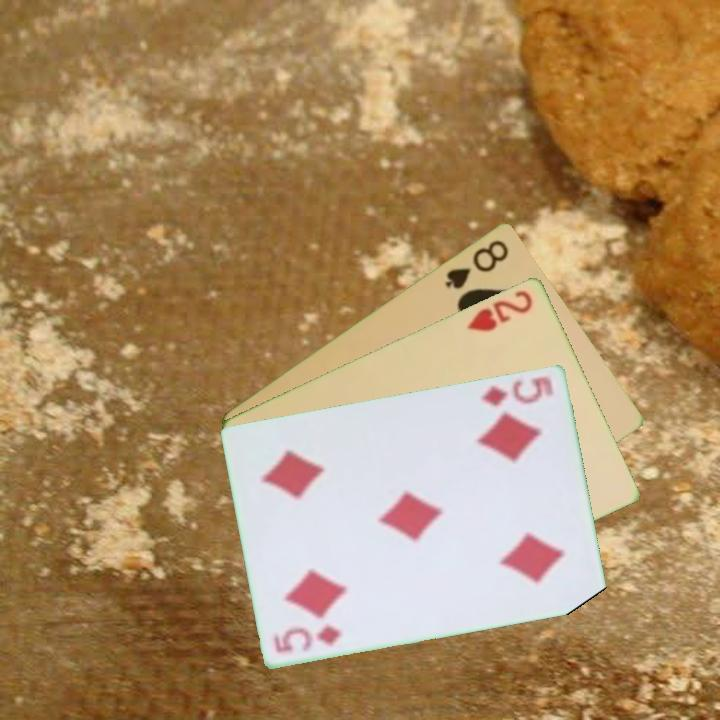2h: (463, 286, 536, 334)
5d: (477, 372, 558, 408), (271, 619, 345, 656)
8s: (441, 235, 512, 292)
